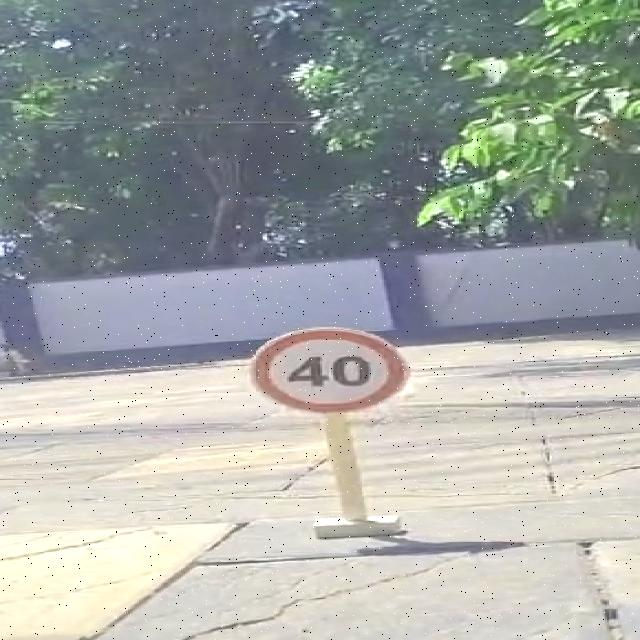Speed40: (244, 321, 422, 418)
